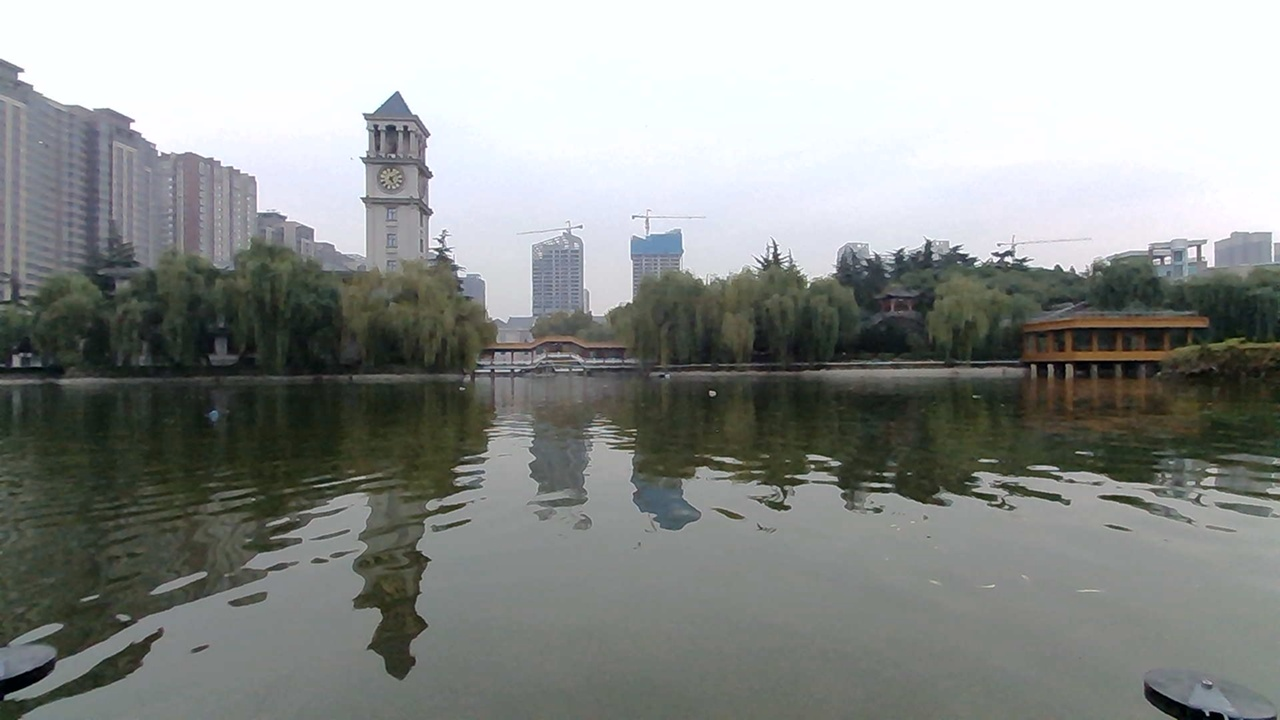bottle: (697, 381, 740, 405), (200, 403, 234, 425)
